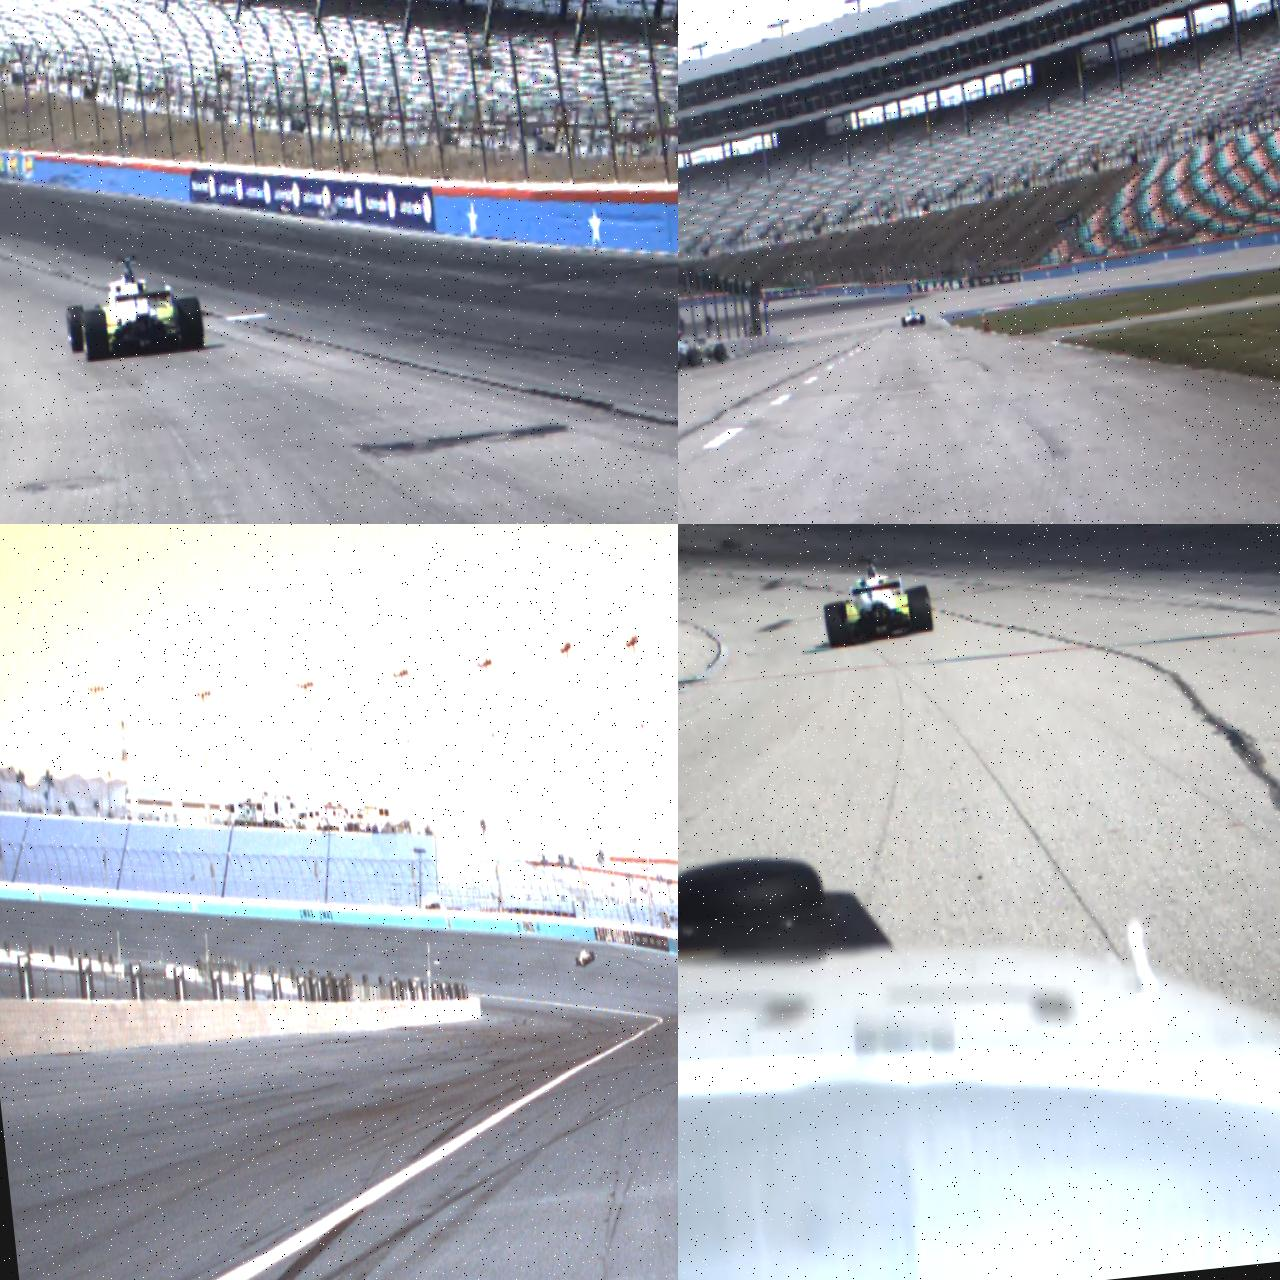AV: (61, 248, 206, 365), (818, 550, 934, 648), (572, 945, 595, 968), (900, 305, 925, 327)
Wheel: (175, 298, 206, 352), (81, 307, 111, 362), (823, 601, 852, 648), (906, 586, 933, 634), (67, 304, 88, 354), (686, 348, 700, 368), (714, 343, 728, 363), (919, 314, 926, 324), (901, 316, 906, 327), (590, 952, 594, 961), (576, 956, 579, 967), (583, 958, 586, 967)
